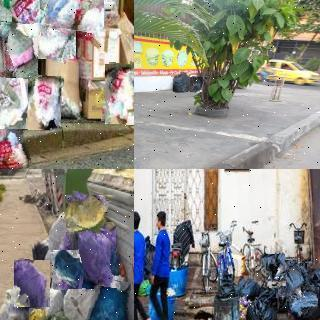Garbage: (70, 220, 120, 290), (30, 0, 79, 61), (0, 22, 39, 79), (0, 63, 33, 129), (0, 93, 27, 169), (27, 75, 63, 131), (12, 259, 52, 309), (103, 63, 134, 125), (47, 0, 106, 32), (88, 278, 129, 320), (64, 193, 107, 232), (61, 276, 97, 320), (273, 261, 309, 299), (11, 0, 44, 37), (52, 250, 82, 290), (286, 285, 320, 320), (247, 282, 277, 320), (125, 19, 134, 117), (262, 254, 286, 287), (172, 71, 192, 93), (306, 264, 320, 287), (189, 77, 203, 93)
